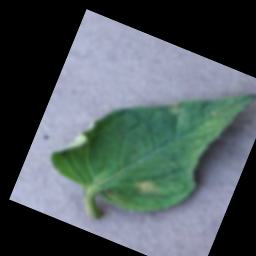Leaf_Mold: (129, 173, 161, 198)
